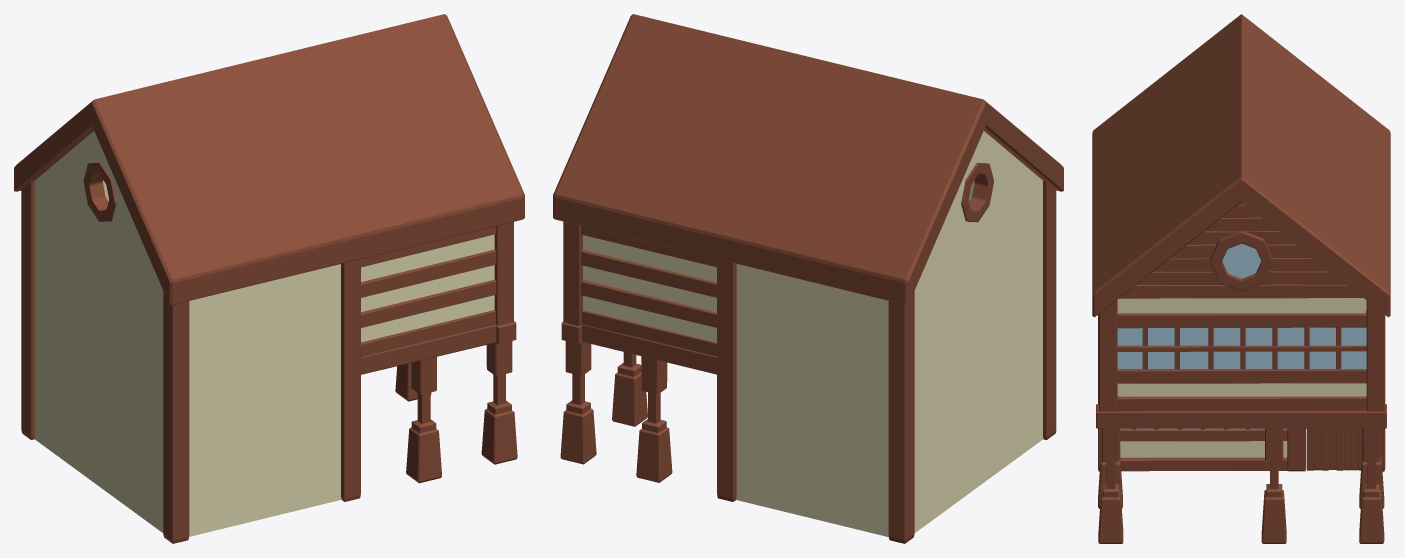
File: house2.fbx
3 renders of one model, left to right at view 1: azimuth 30°, elevation 25°; view 2: azimuth 150°, elevation 25°; view 3: azimuth 270°, elevation 25°, orthographic. The views are drawn at different scales.
Visible parts, largest first — view 1: Cube.003; view 2: Cube.003; view 3: Cube.003.
Part boxes in pixels (box(x1,y1,x2,y2)): Cube.003: box(14, 14, 524, 543); Cube.003: box(553, 14, 1063, 543); Cube.003: box(1092, 14, 1390, 543).
Size of the model in its own units: 2168 by 2275 by 1664.
